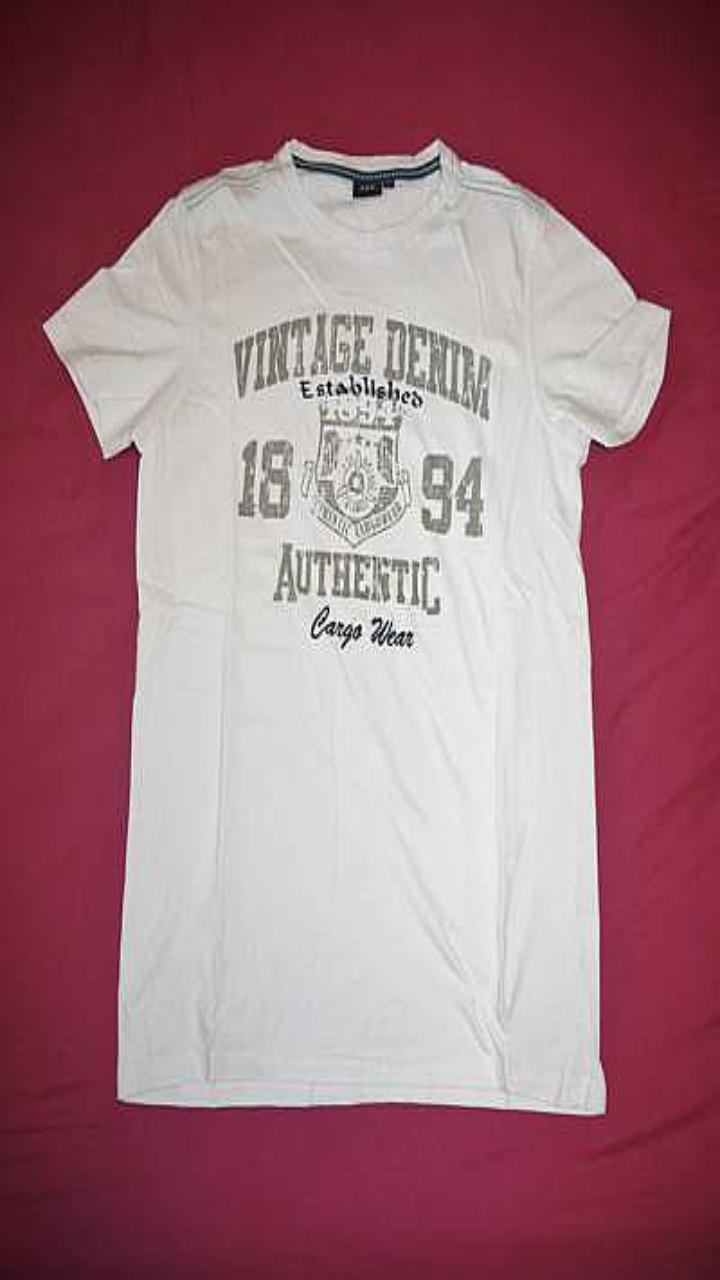T-Shirt: (44, 138, 670, 1114)
